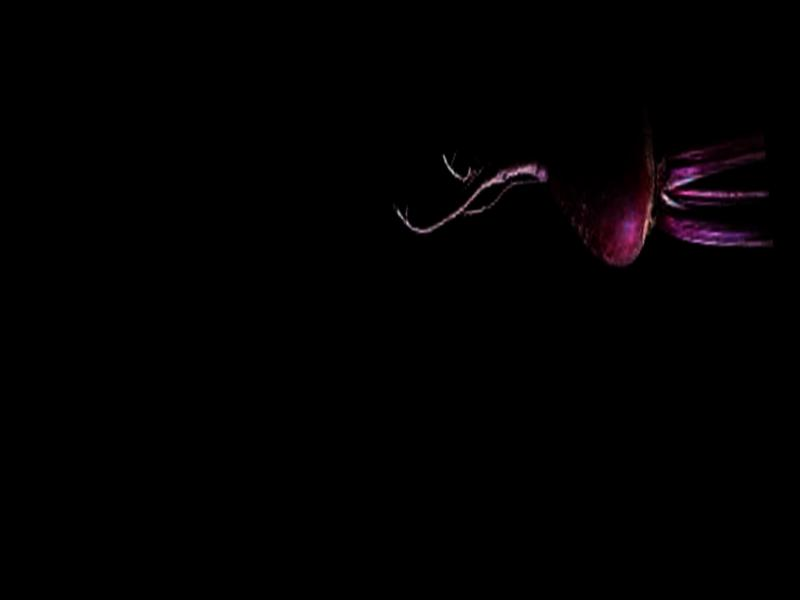Beet: (382, 62, 773, 299)
